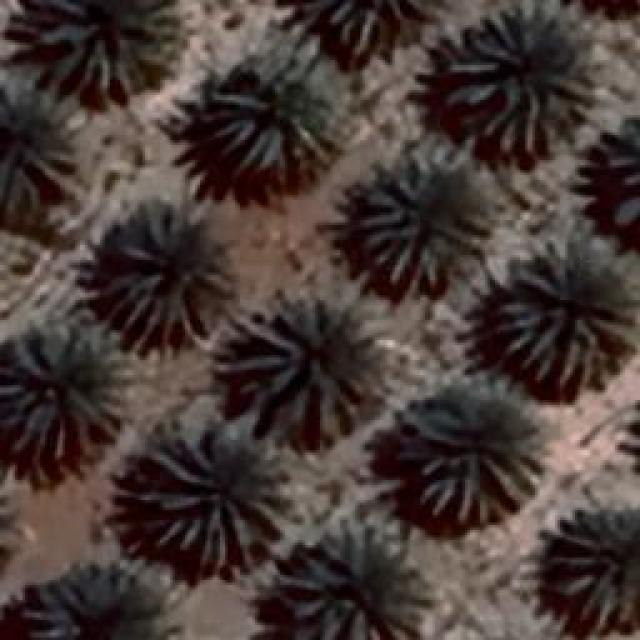PalmTree: (11, 131, 620, 526), (220, 290, 395, 442), (125, 418, 290, 572), (494, 235, 638, 388), (448, 5, 590, 160), (400, 377, 542, 525), (357, 145, 495, 293), (95, 210, 230, 350), (200, 48, 340, 182), (0, 325, 128, 465), (277, 528, 425, 638), (30, 0, 175, 98), (19, 567, 189, 640), (550, 502, 638, 632), (0, 80, 80, 208), (322, 0, 436, 55), (0, 456, 16, 598), (622, 385, 640, 497)
